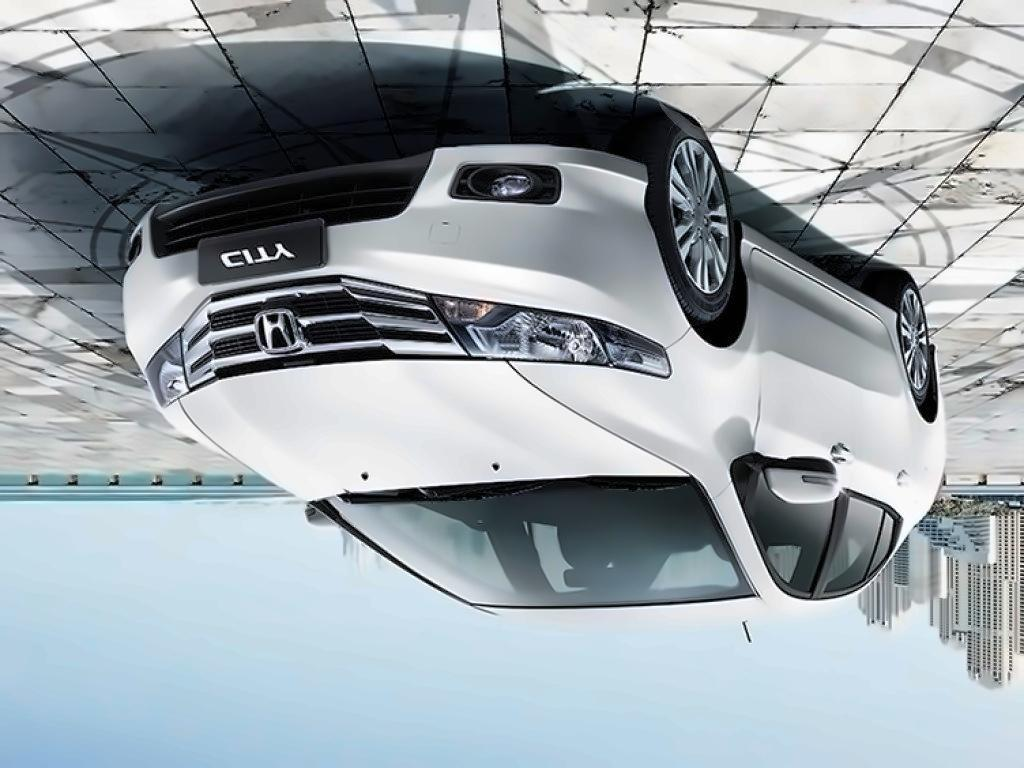Car hood: (164, 349, 693, 500)
Driver-s door - -F-R-: (750, 240, 852, 606)
Fender - -F-R-: (507, 233, 760, 499)
Fender - -R-R-: (889, 297, 943, 501)
Front bumper: (102, 130, 699, 330)
Headlight - -L-: (130, 323, 211, 413)
Headlight - -R-: (424, 290, 681, 384)
Passenger-s door - -R-R-: (830, 303, 913, 605)
Rear bumper: (926, 339, 959, 422)
Side bumper - -R-: (732, 219, 907, 336)
Side mirror - -L-: (287, 489, 355, 543)
Side mirror - -R-: (746, 446, 846, 522)
